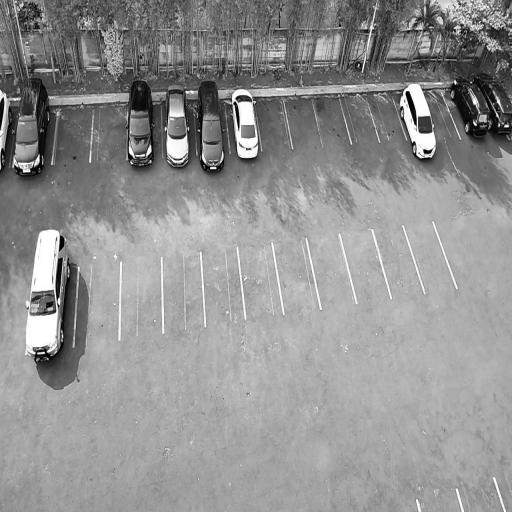Car: (23, 222, 73, 369), (10, 70, 53, 183), (395, 79, 441, 163), (447, 73, 492, 142), (472, 64, 512, 137), (196, 80, 226, 176), (162, 81, 192, 170), (127, 79, 156, 170), (228, 84, 261, 161), (0, 85, 14, 175)
Space Available: (74, 262, 121, 347), (402, 221, 457, 292), (340, 228, 391, 304), (372, 226, 425, 299), (307, 234, 357, 308), (120, 257, 164, 340), (273, 238, 320, 314), (237, 241, 283, 318), (162, 251, 206, 331), (201, 248, 244, 327), (0, 265, 30, 354), (52, 106, 93, 163), (283, 98, 323, 149), (91, 107, 128, 160), (312, 98, 351, 147), (255, 100, 292, 150), (366, 95, 407, 140), (340, 96, 380, 142), (425, 92, 460, 139), (457, 480, 505, 512), (417, 488, 462, 512)
